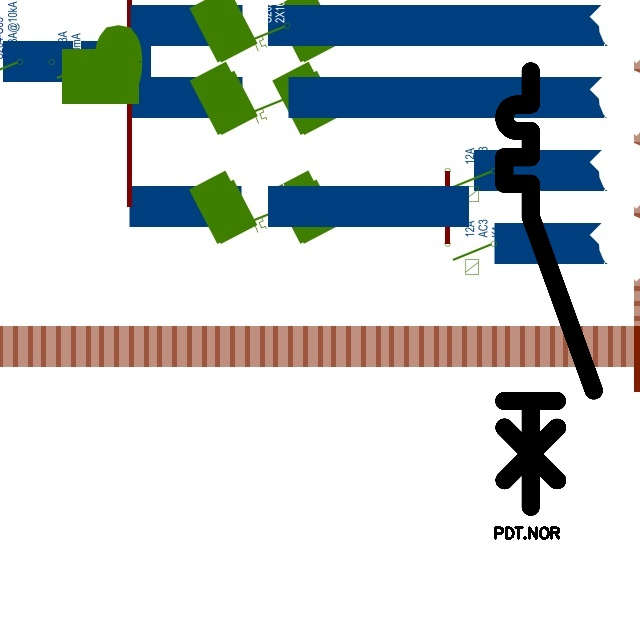interruptor_termomagnetico: (493, 60, 605, 518)
